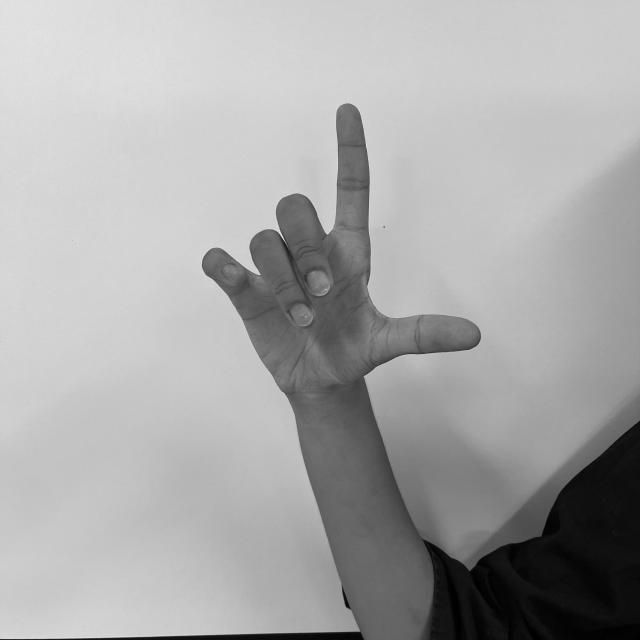Letra L: (195, 98, 486, 372)
